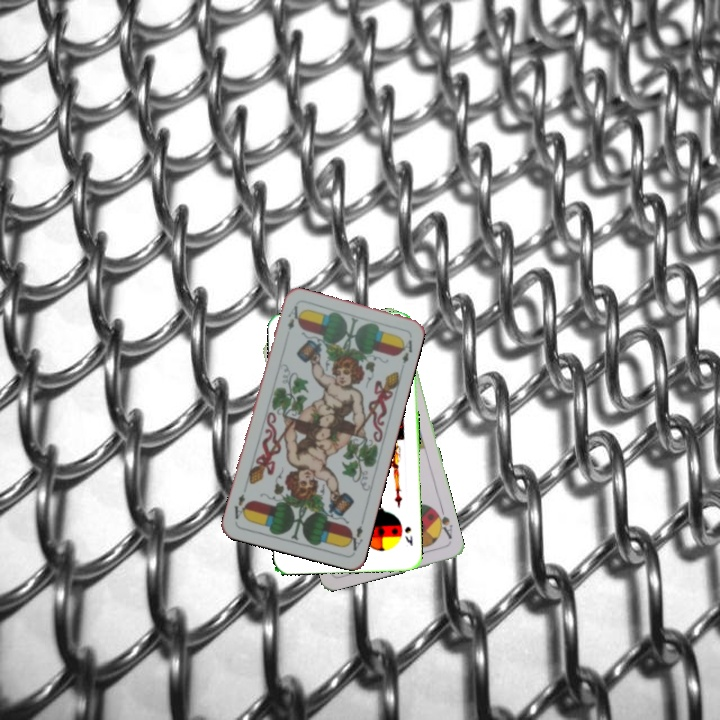EA: (343, 514, 367, 554), (284, 302, 300, 333)
SA: (430, 504, 455, 542)
SK: (401, 523, 415, 548)
